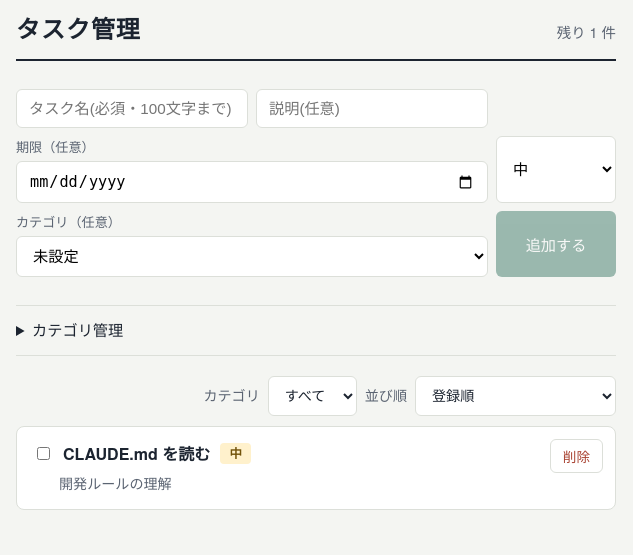
Test: App › 完了すると日時が表示され、取り消すと表示が消える
expect the text "CLAUDE.md を読む" is shown: met, box x1=63 y1=441 x2=210 y2=466
expect the text "完了日時:" is not shown: met
Click the checkbox at point(44, 454), box x1=37 y1=447 x2=50 y2=460
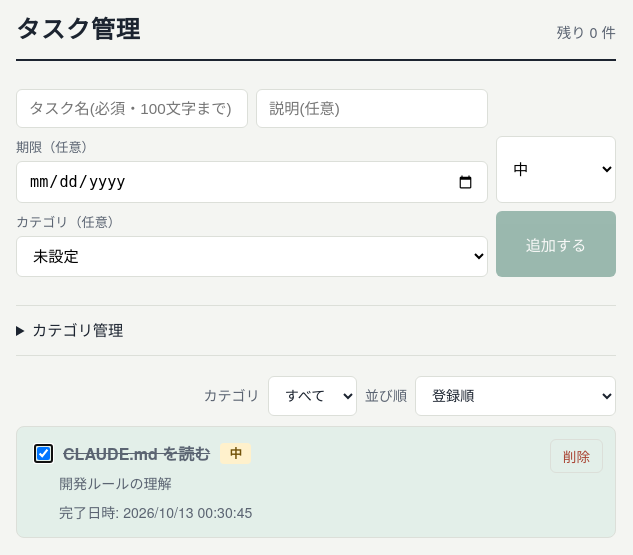
expect the text "2026/10/13 00:30:45" is shown: met, box x1=123 y1=502 x2=252 y2=522
Click the checkbox at point(44, 454), box x1=37 y1=447 x2=50 y2=460
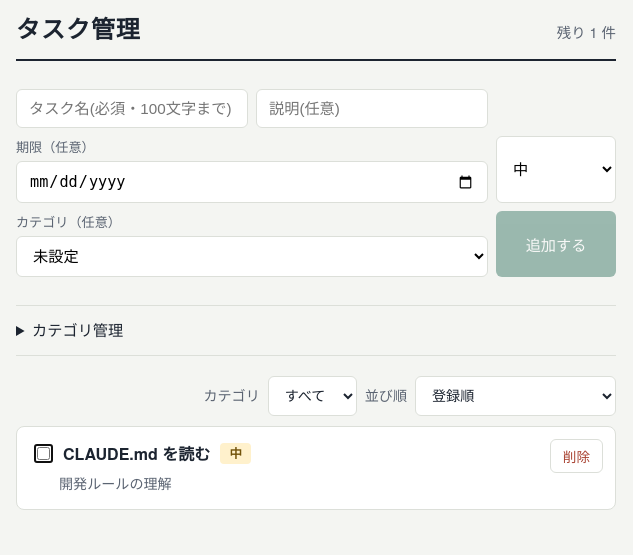
expect the text "完了日時:" is gone: met
